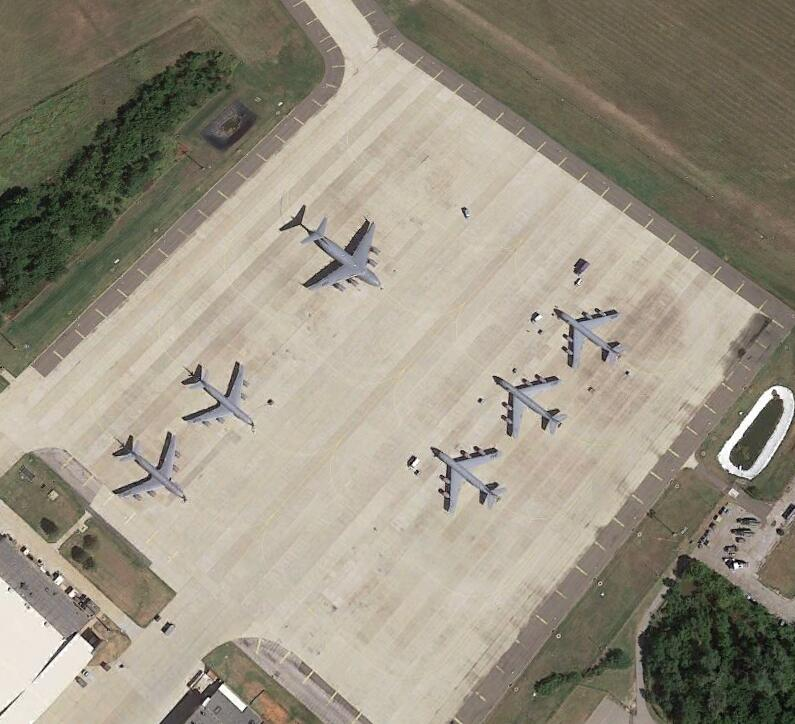A14: (430, 445, 507, 516), (114, 431, 188, 502), (492, 373, 568, 435), (185, 363, 256, 428), (555, 307, 625, 368)
A3: (301, 213, 384, 295)
